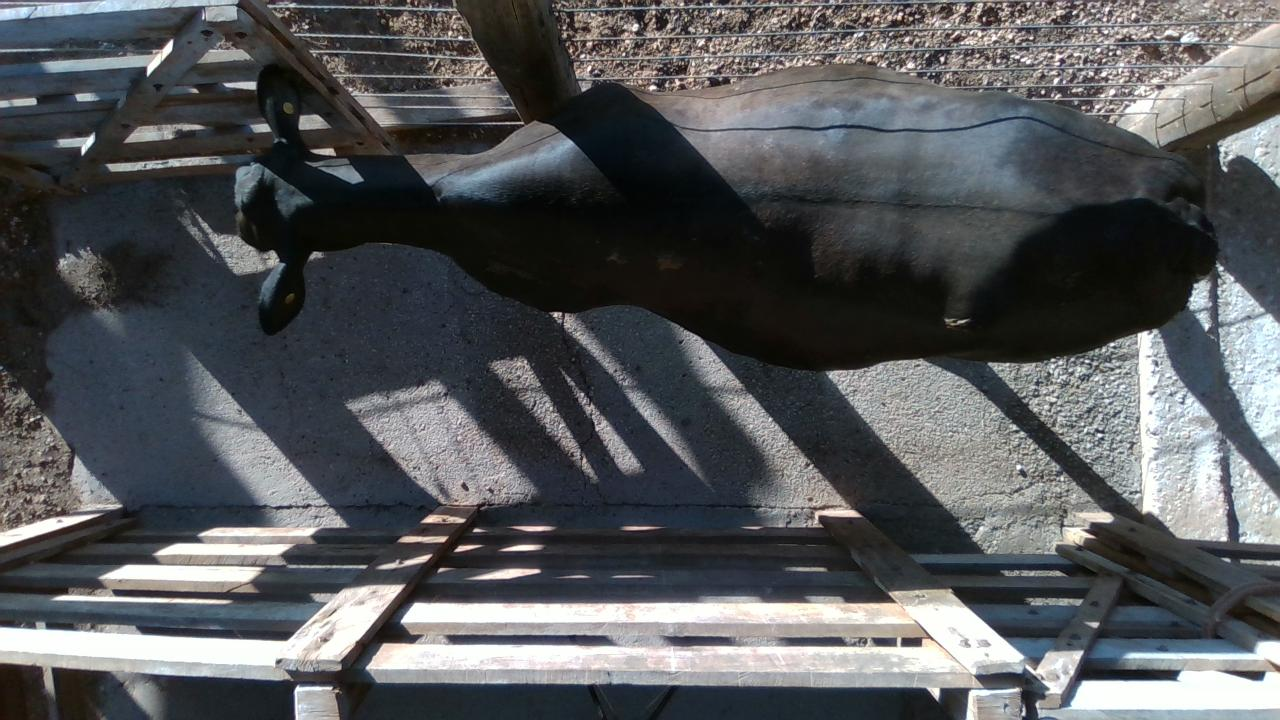cattle: (232, 62, 1219, 372)
